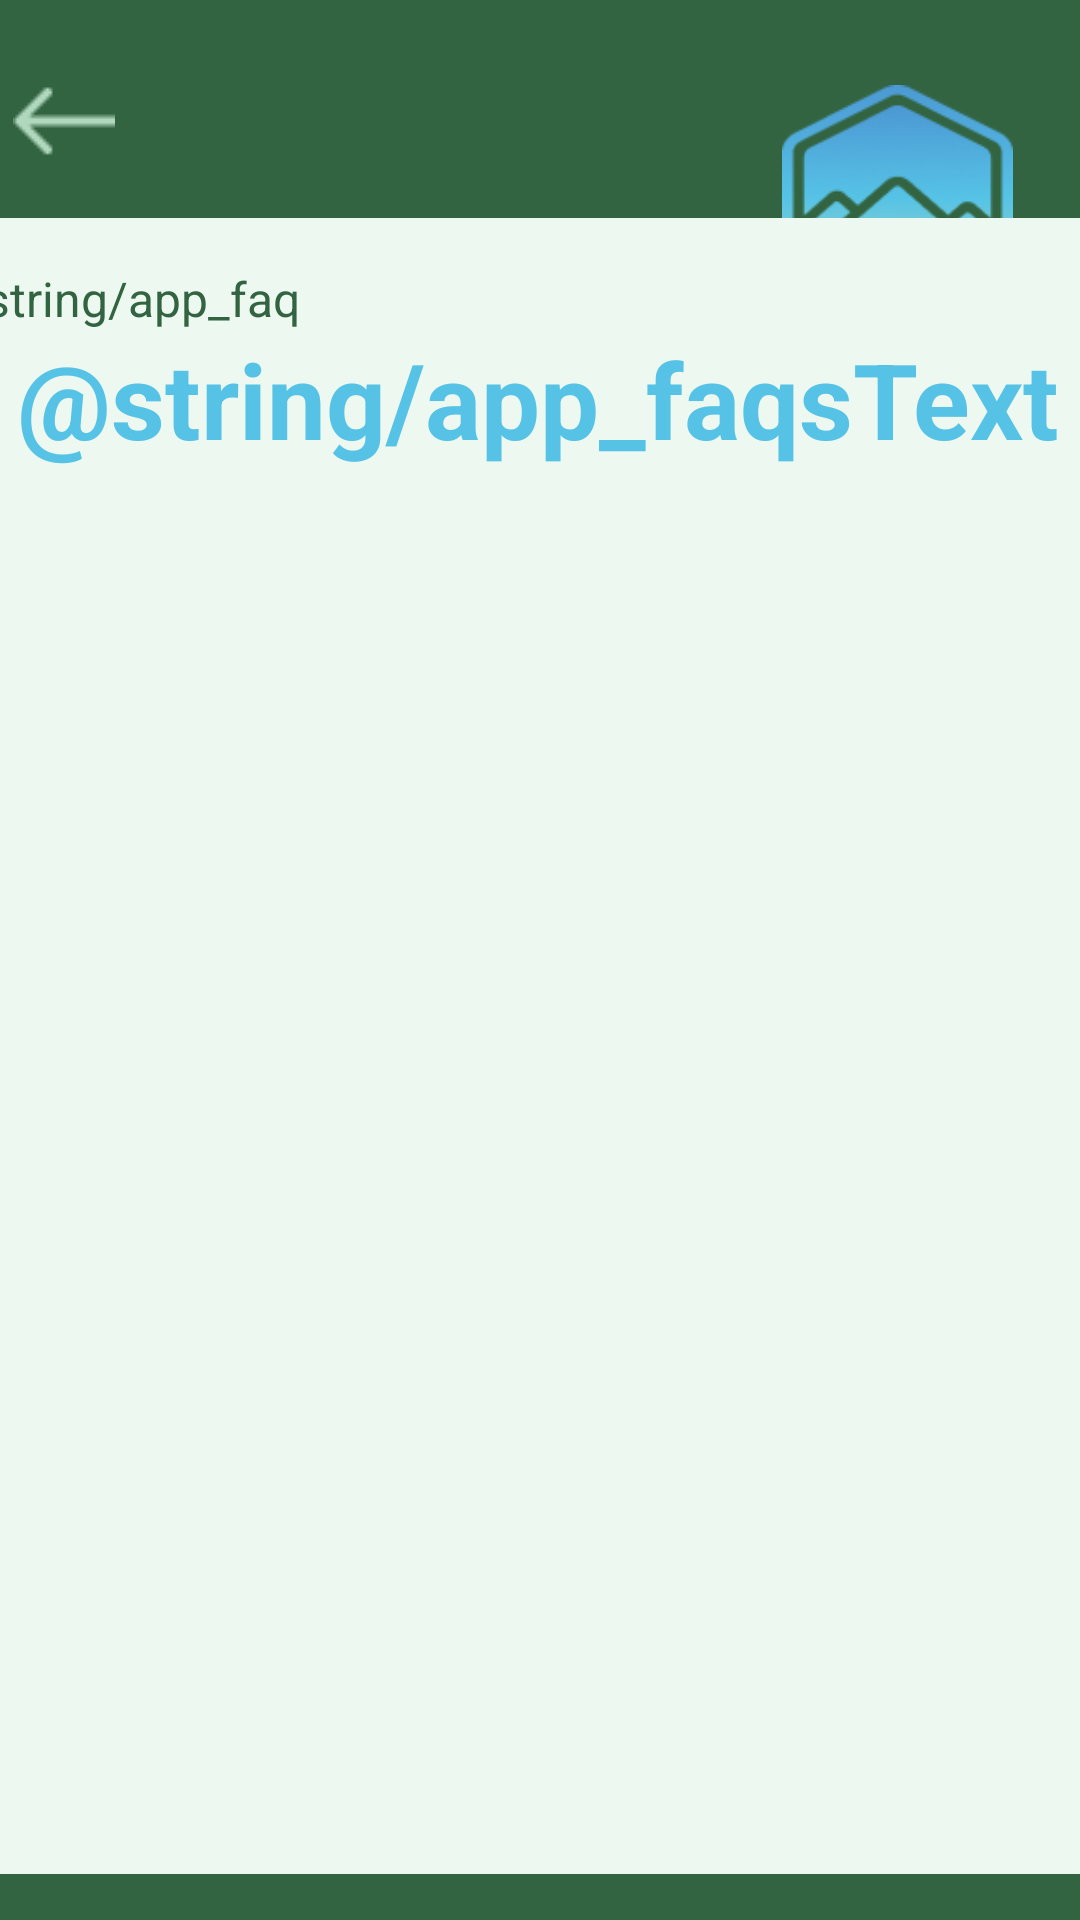

Point at icon controls on the screen. Image size 1080 x 1920, points as (x,y).
arrow: (64,121)
